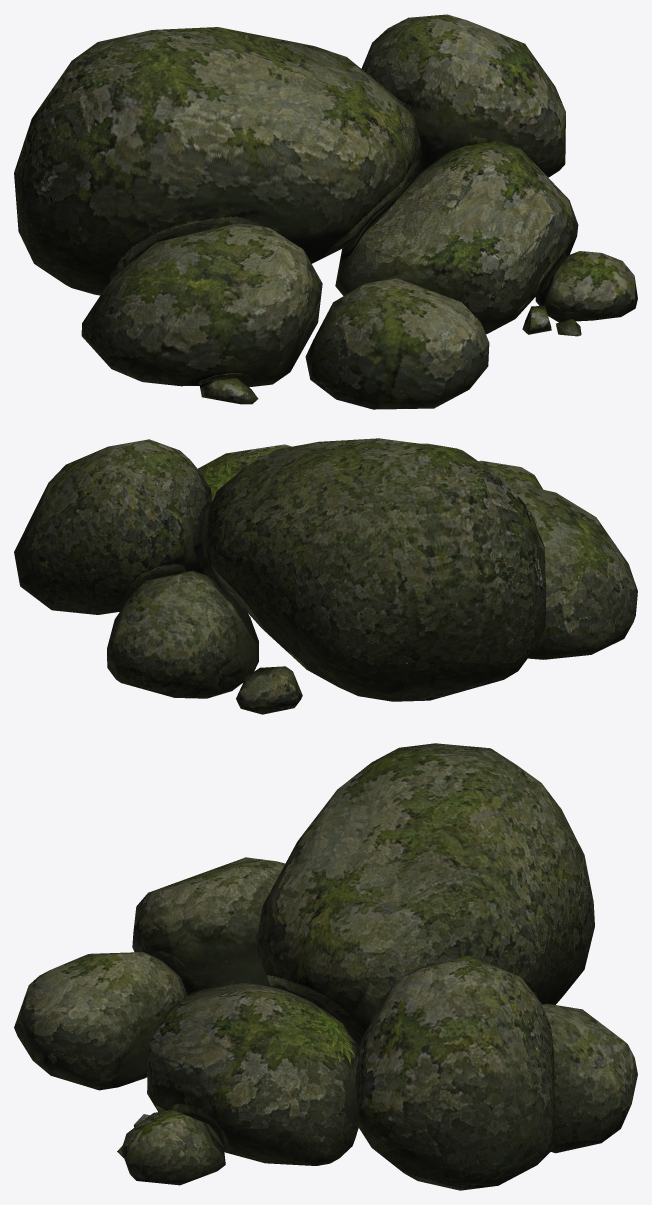
The model's file is clutter_riverbank_stones.glb.
The picture shows the model from 3 angles, top to bottom: view 1: azimuth 30°, elevation 25°; view 2: azimuth 150°, elevation 25°; view 3: azimuth 270°, elevation 25°; orthographic projection. The views are drawn at different scales.
Visible parts, largest first — view 1: riverbank_stones; view 2: riverbank_stones; view 3: riverbank_stones.
Part boxes in pixels (left/top/right/bottom): riverbank_stones: left=14, top=14, right=637, bottom=409; riverbank_stones: left=14, top=438, right=637, bottom=714; riverbank_stones: left=14, top=743, right=637, bottom=1190.
Size of the model in its own units: 0.9922 by 0.4536 by 0.9292.
1 material, 1 textured.
